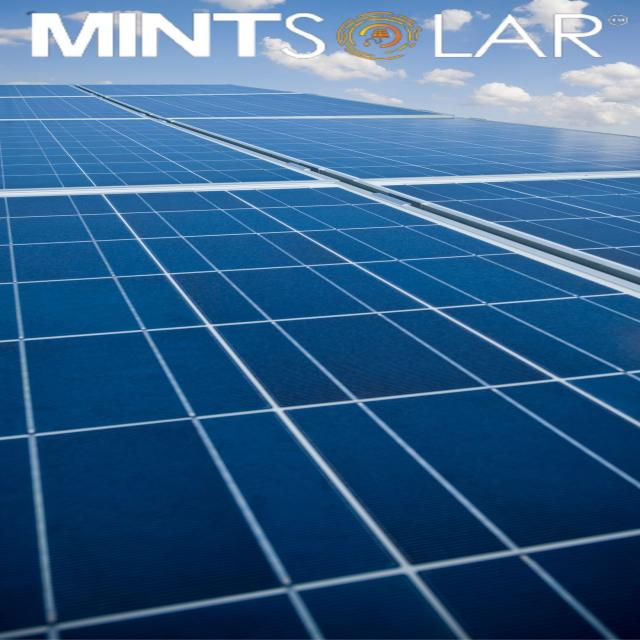clean-solar-panel: (0, 85, 640, 640)
